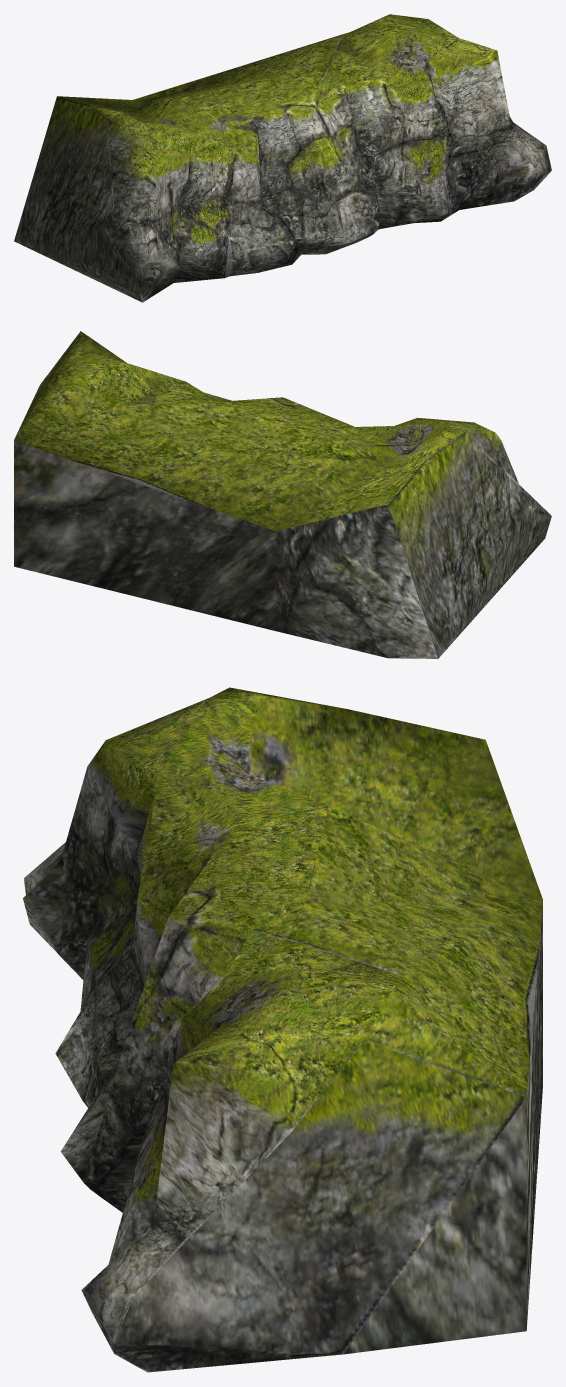
Rendered from cliff.fbx.
The picture shows the model from 3 angles, top to bottom: view 1: azimuth 30°, elevation 25°; view 2: azimuth 150°, elevation 25°; view 3: azimuth 270°, elevation 25°; orthographic projection. The views are drawn at different scales.
Parts seen in each view (by area): view 1: cliff; view 2: cliff; view 3: cliff.
Boxes of the visible parts, x1=… form: cliff: x1=14, y1=14, x2=551, y2=302; cliff: x1=14, y1=331, x2=551, y2=658; cliff: x1=23, y1=687, x2=542, y2=1372.
Size of the model in its own units: 81.41 by 29.84 by 41.05.
Materials: 1 (1 with a texture image).
